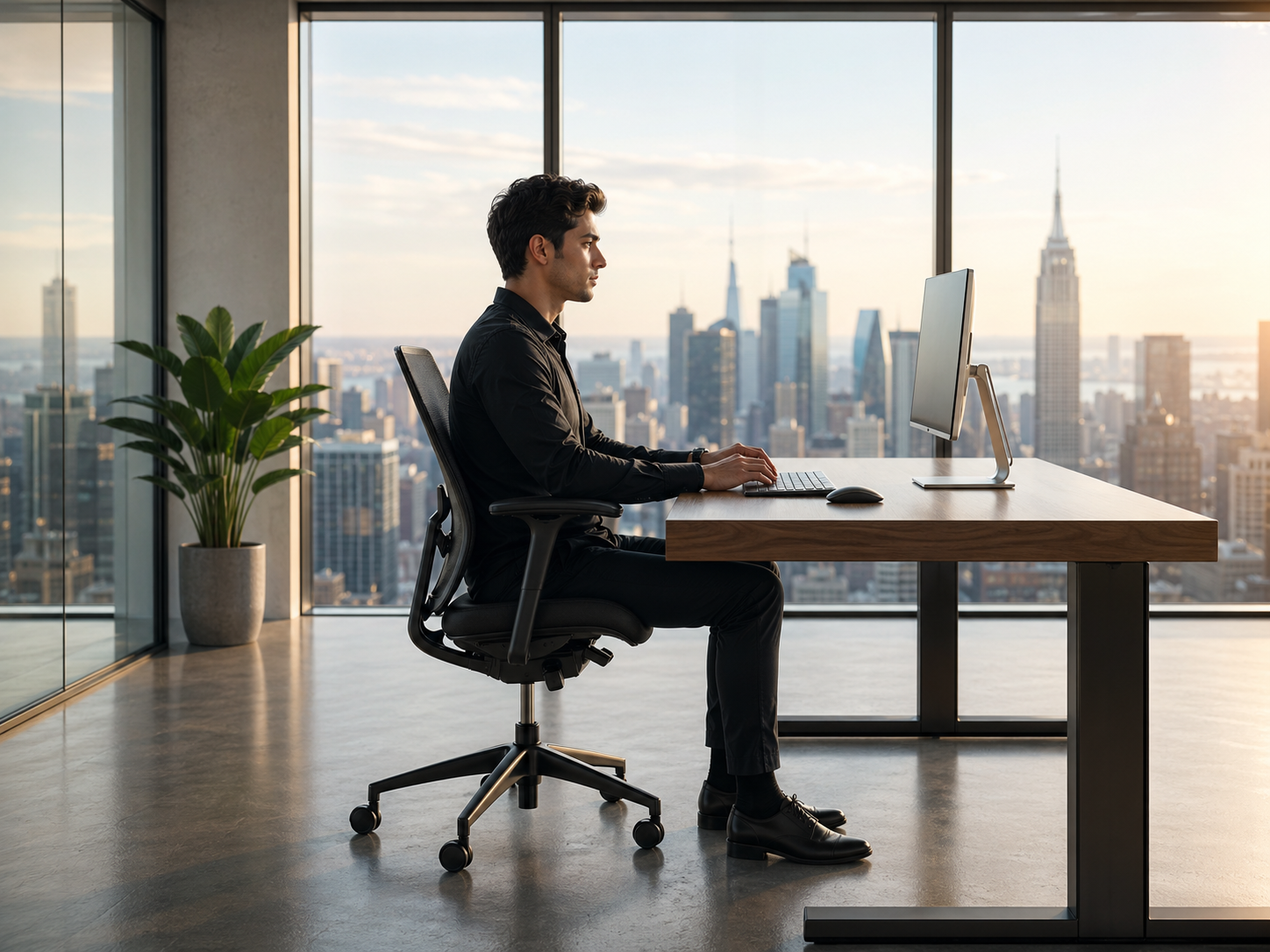sitting_good: (341, 155, 823, 839)
